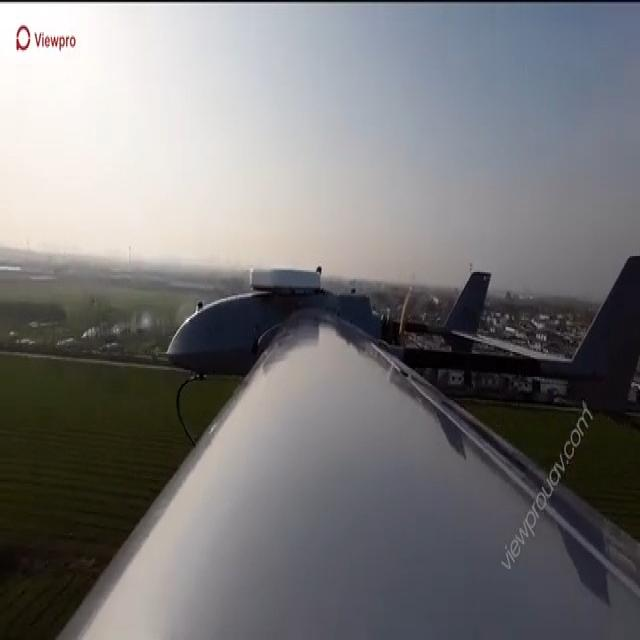drones: (150, 250, 640, 442)
